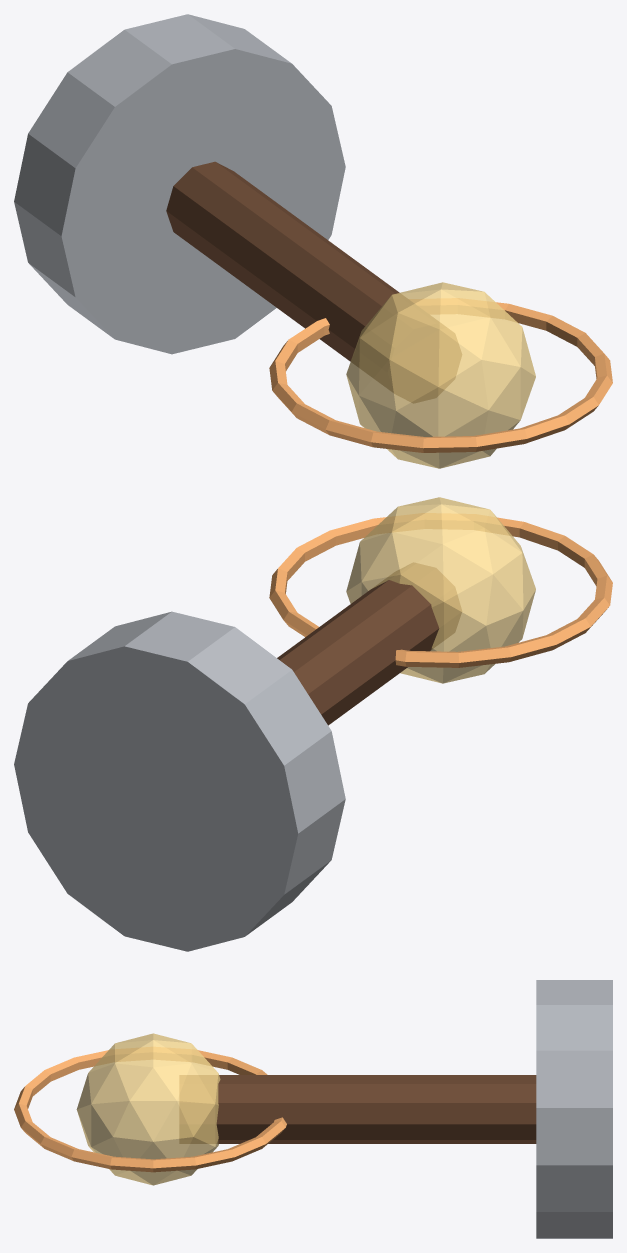
File: 03_world_landmark_light.glb
3 renders of one model, top to bottom at view 1: azimuth 30°, elevation 25°; view 2: azimuth 150°, elevation 25°; view 3: azimuth 270°, elevation 25°, orthographic. The views are drawn at different scales.
Visible parts, largest first — view 1: light_base, light_column, light_core, light_halo; view 2: light_base, light_core, light_column, light_halo; view 3: light_column, light_base, light_core, light_halo.
Part boxes in pixels (bbox=[...]): light_base: bbox=[14, 14, 345, 354]; light_column: bbox=[166, 161, 461, 402]; light_core: bbox=[346, 282, 535, 468]; light_halo: bbox=[269, 298, 612, 452]; light_base: bbox=[14, 611, 345, 951]; light_core: bbox=[346, 497, 535, 683]; light_column: bbox=[277, 563, 461, 725]; light_halo: bbox=[269, 513, 612, 667]; light_column: bbox=[180, 1075, 536, 1143]; light_base: bbox=[536, 980, 612, 1238]; light_core: bbox=[76, 1033, 220, 1185]; light_halo: bbox=[14, 1047, 286, 1172].
Bounding box in the file's own units: 0.8 × 0.7409 × 1.72.
